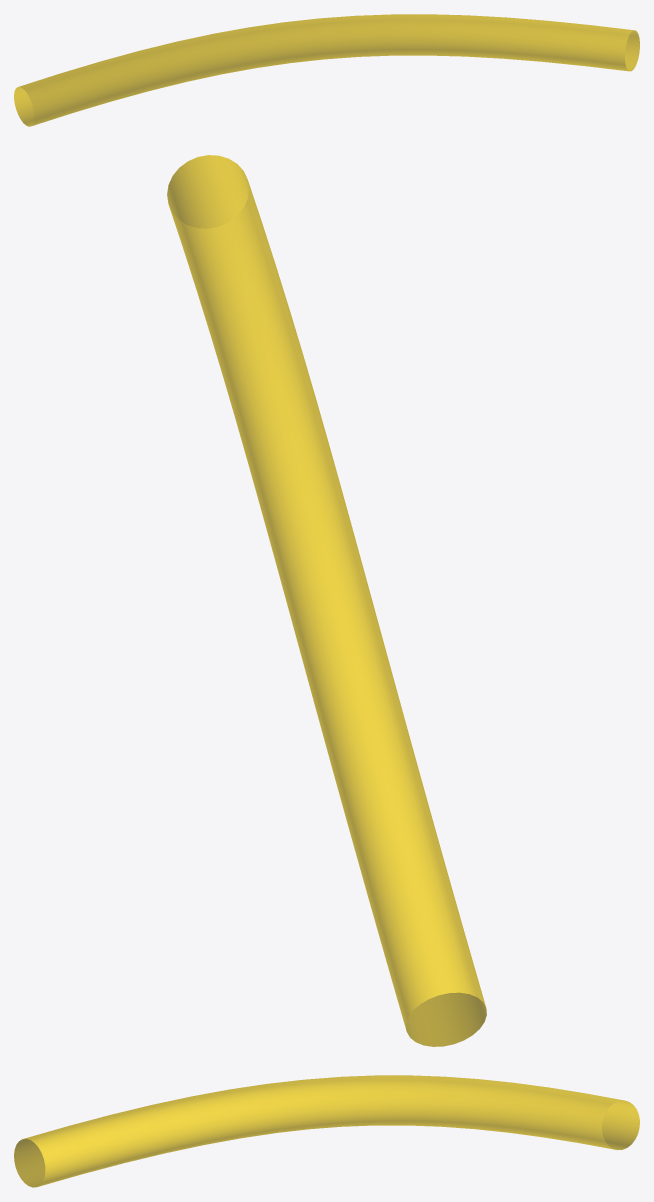
File: Event_100608114_track_48.fbx
3 renders of one model, top to bottom at view 1: azimuth 30°, elevation 25°; view 2: azimuth 150°, elevation 25°; view 3: azimuth 270°, elevation 25°, orthographic. The views are drawn at different scales.
Parts seen in each view (by area): view 1: Model; view 2: Model; view 3: Model.
Boxes of the visible parts, left/top/right/bottom form: Model: left=14, top=14, right=639, bottom=126; Model: left=167, top=155, right=486, bottom=1046; Model: left=14, top=1075, right=639, bottom=1187.
Size of the model in its own units: 0.4353 by 0.1933 by 0.4983.
